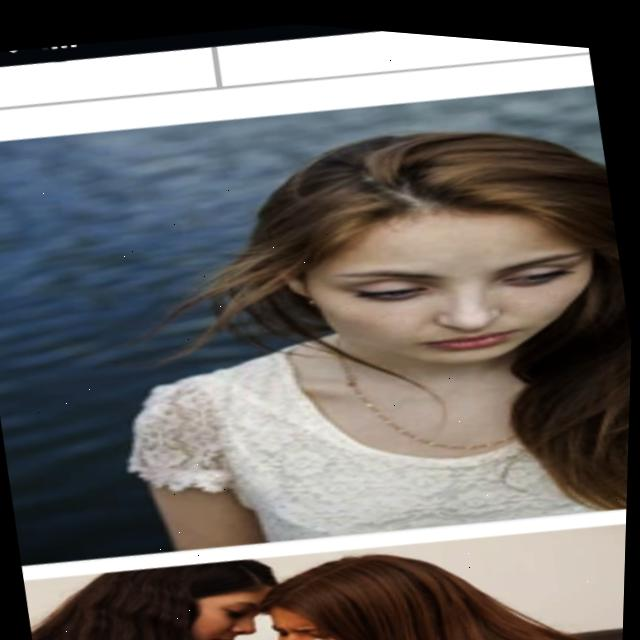natural: (206, 139, 605, 409)
